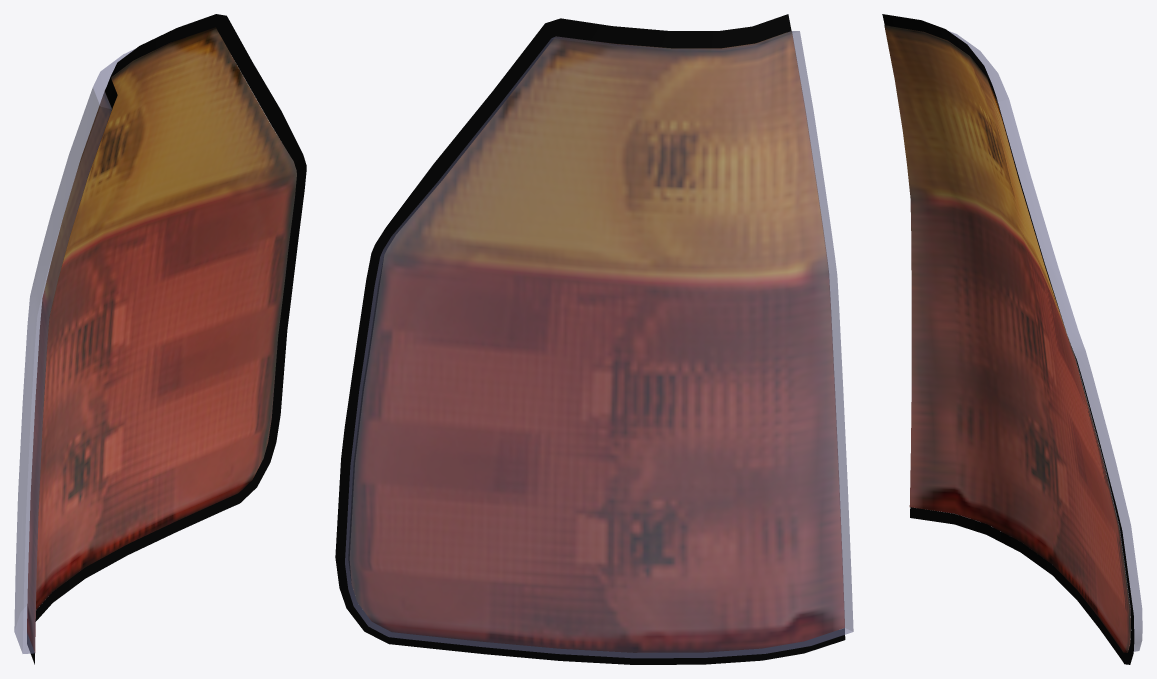
The picture shows the model from 3 angles, left to right: view 1: azimuth 30°, elevation 25°; view 2: azimuth 150°, elevation 25°; view 3: azimuth 270°, elevation 25°; orthographic projection. The views are drawn at different scales.
Visible parts, largest first — view 1: U721_541C_L_U721_541C_L_2_N, U721_541C_L_1_DTaSI_U721_541C_L, U721_541C_L_U721_541C_L_3_D; view 2: U721_541C_L_1_DTaSI_U721_541C_L, U721_541C_L_U721_541C_L_2_N, U721_541C_L_U721_541C_L_3_D; view 3: U721_541C_L_U721_541C_L_2_N, U721_541C_L_1_DTaSI_U721_541C_L, U721_541C_L_U721_541C_L_3_D.
Boxes of the visible parts, left/top/right/bottom form: U721_541C_L_U721_541C_L_2_N: left=27, top=27, right=296, bottom=652; U721_541C_L_1_DTaSI_U721_541C_L: left=14, top=48, right=135, bottom=653; U721_541C_L_U721_541C_L_3_D: left=27, top=14, right=306, bottom=664; U721_541C_L_1_DTaSI_U721_541C_L: left=345, top=31, right=853, bottom=658; U721_541C_L_U721_541C_L_2_N: left=349, top=31, right=844, bottom=652; U721_541C_L_U721_541C_L_3_D: left=335, top=14, right=845, bottom=664; U721_541C_L_U721_541C_L_2_N: left=884, top=25, right=1130, bottom=652; U721_541C_L_1_DTaSI_U721_541C_L: left=949, top=31, right=1142, bottom=651; U721_541C_L_U721_541C_L_3_D: left=882, top=14, right=1134, bottom=664.
Size of the model in its own units: 26.98 by 38.86 by 17.11.
